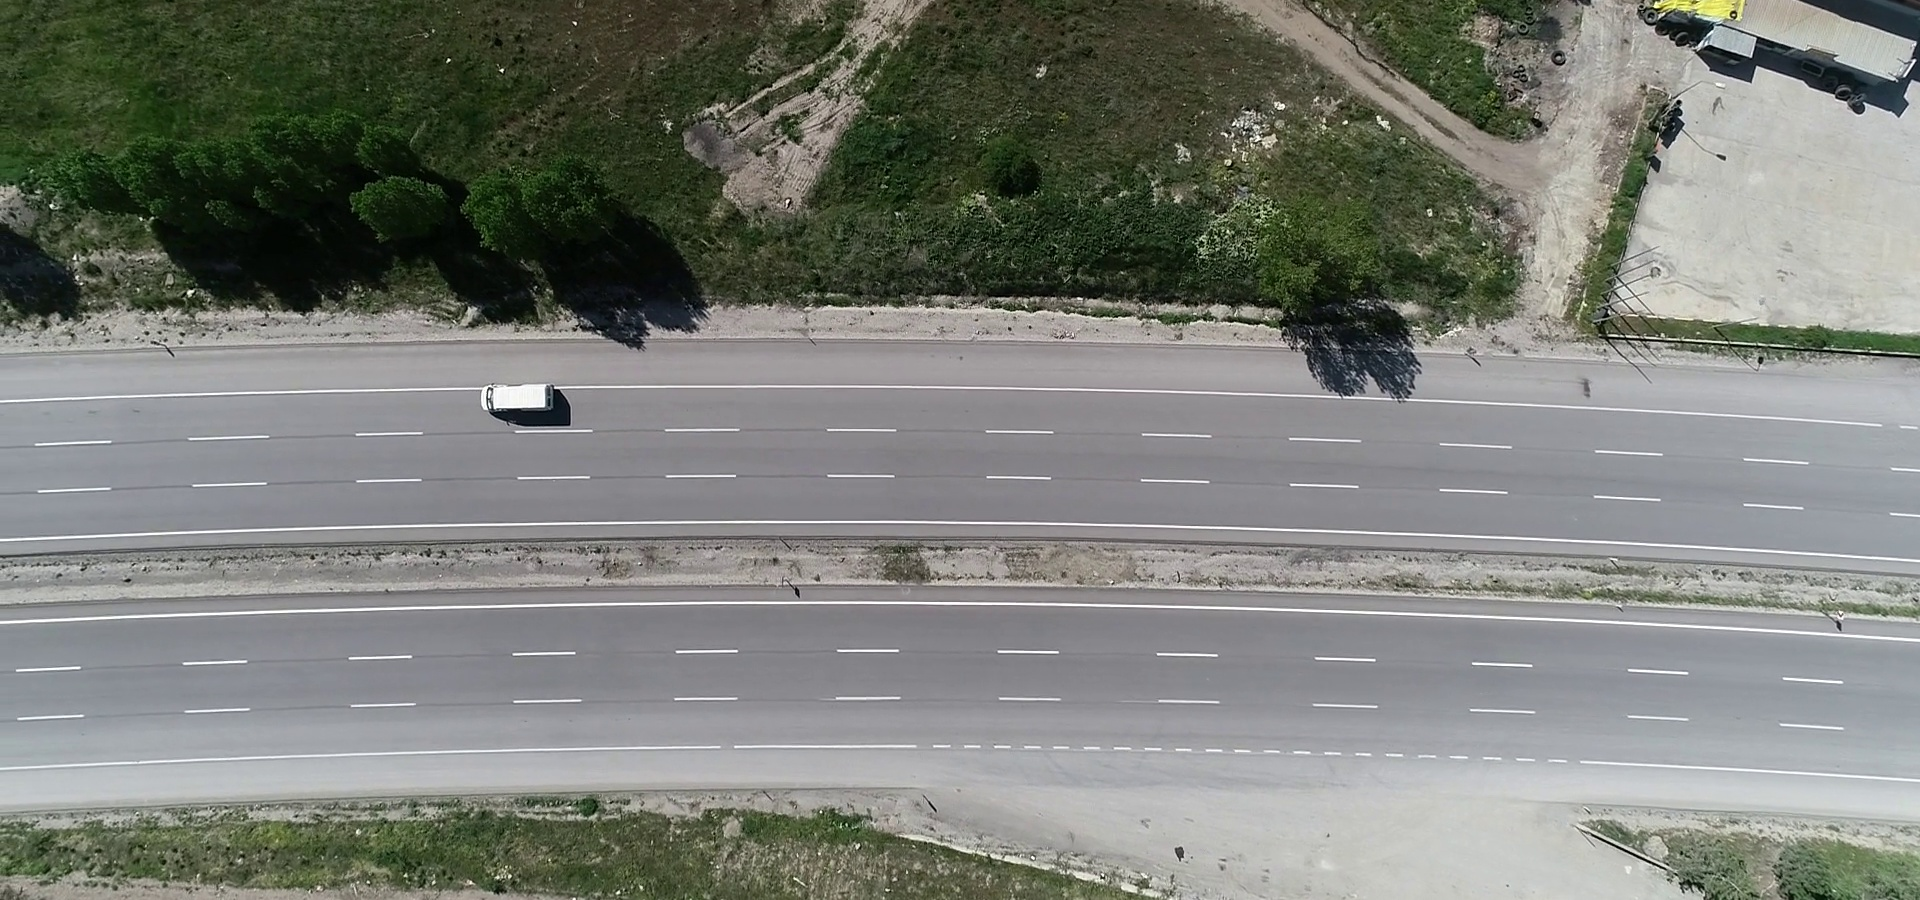araba: (478, 373, 562, 424)
